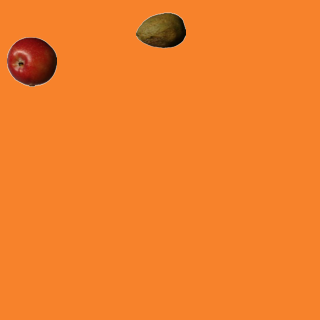Apple Braeburn: (6, 36, 56, 86)
Papaya: (135, 5, 185, 55)
